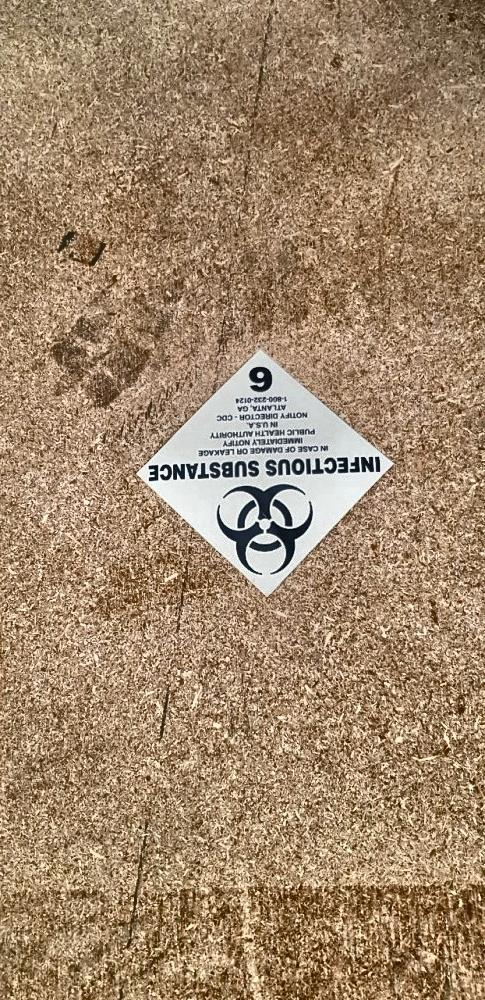infectious-substance: (136, 349, 395, 595)
